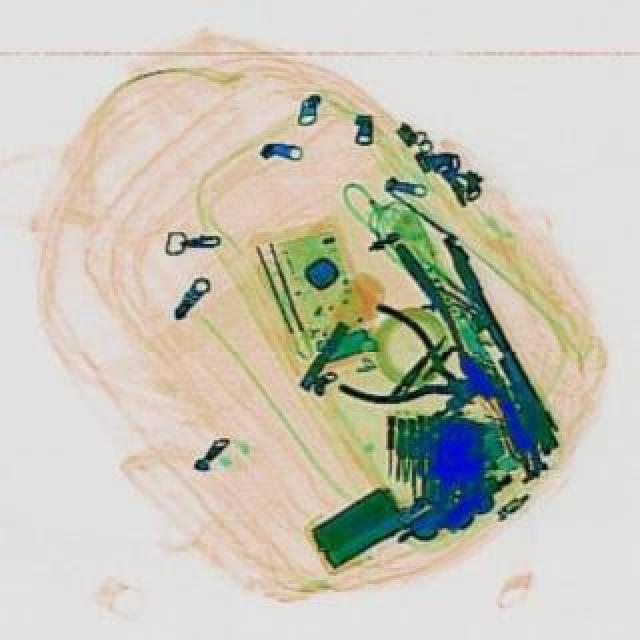wrench: (334, 298, 498, 438)
